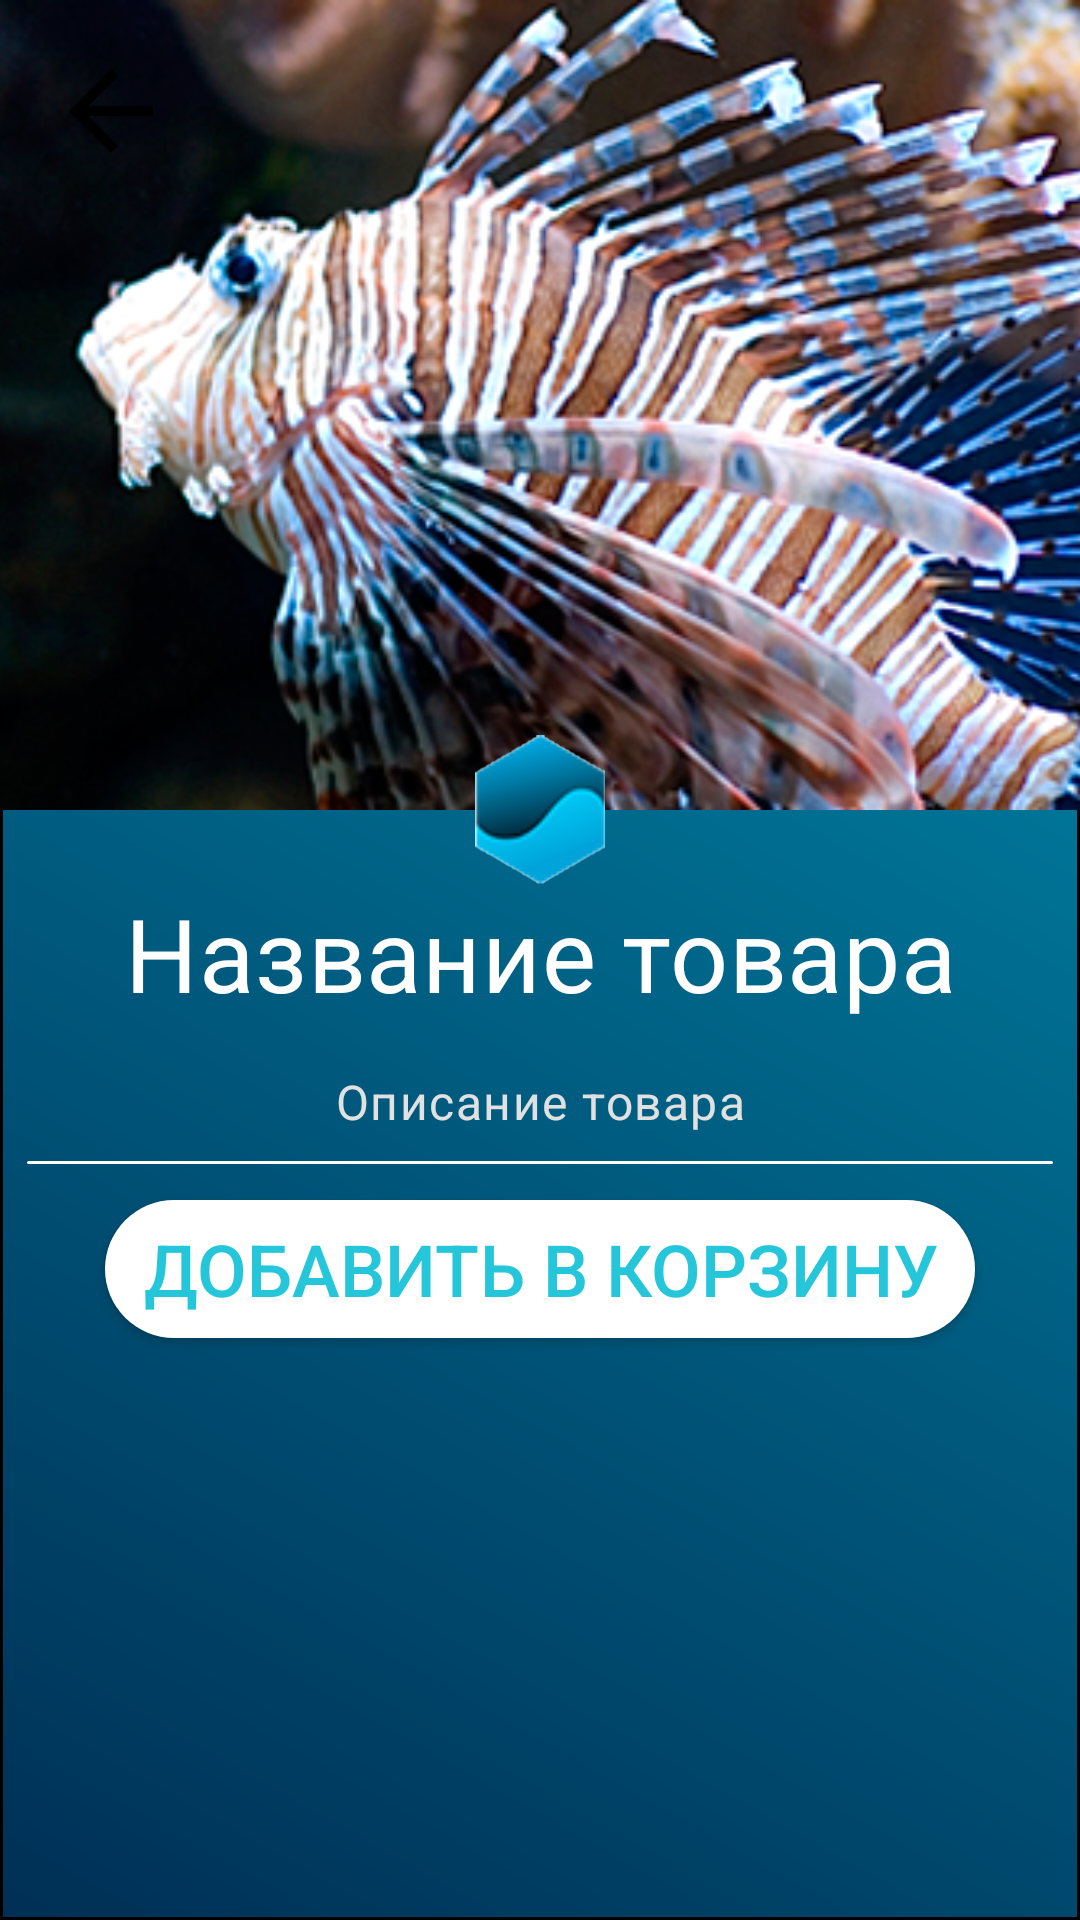

Screen size 1080px x 1920px. Icon name, then its center in pixels as (x,y):
ocean: (540,810)
